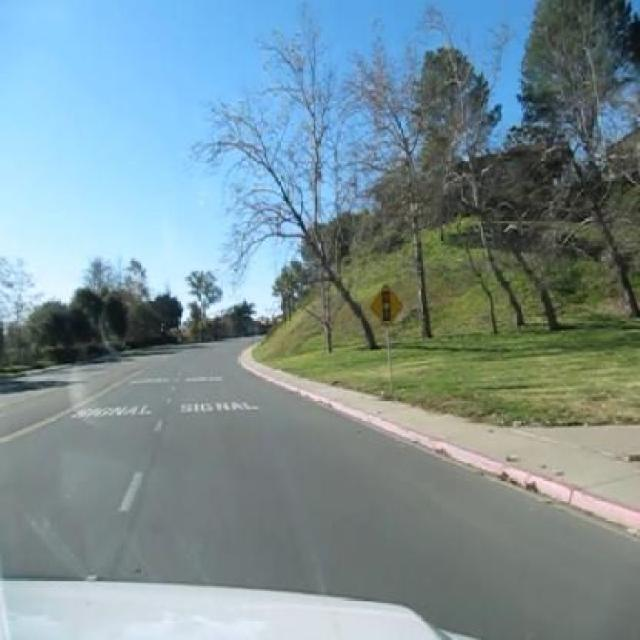signalAhead: (368, 282, 403, 328)
